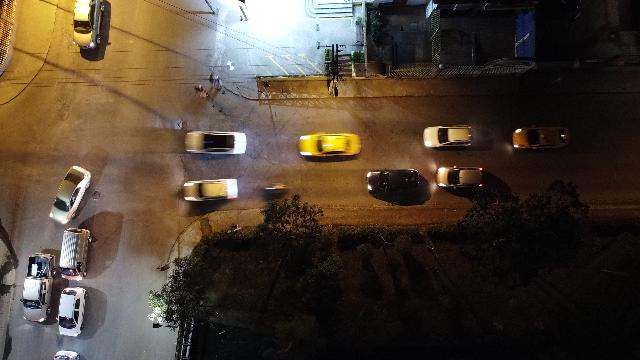Vehiculo: (20, 254, 56, 322), (49, 166, 91, 224), (366, 169, 430, 205), (59, 229, 96, 280), (299, 132, 361, 158), (72, 0, 104, 50), (56, 287, 85, 337), (184, 132, 246, 154), (512, 127, 570, 150), (183, 178, 237, 202), (436, 166, 484, 190), (423, 126, 472, 148), (264, 183, 292, 201), (52, 351, 80, 360)
